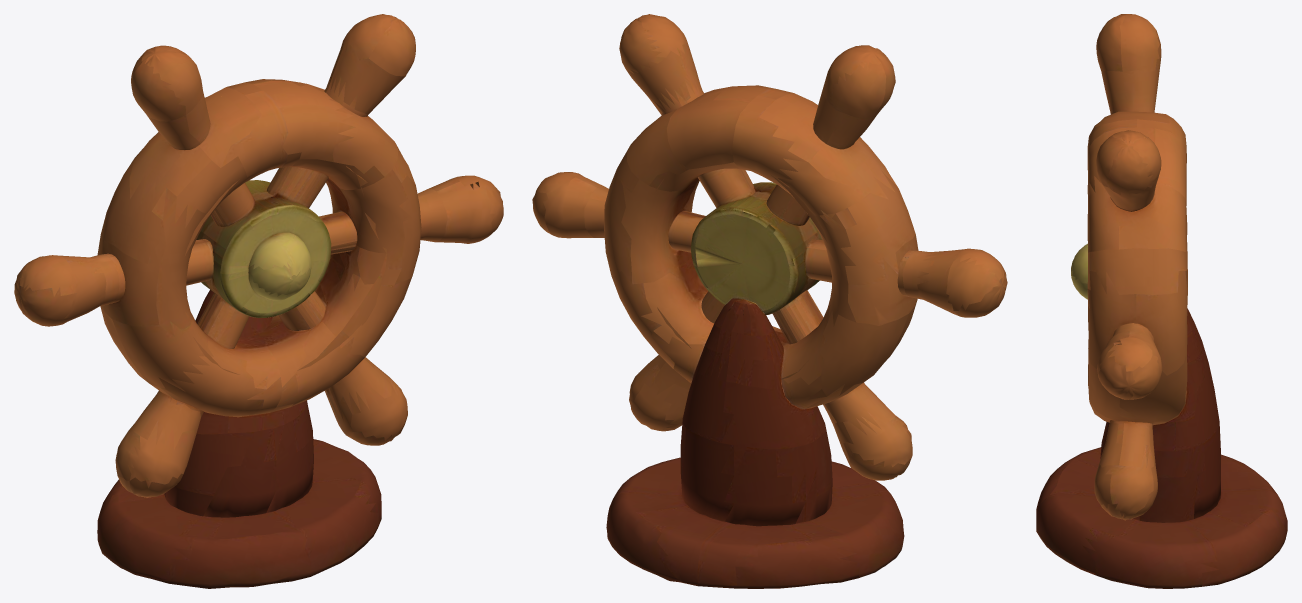
The model's file is la_timon.glb.
3 views of the same model, side by side, from view 1: azimuth 30°, elevation 25°; view 2: azimuth 150°, elevation 25°; view 3: azimuth 270°, elevation 25° (orthographic). The views are drawn at different scales.
Size of the model in its own units: 0.9785 by 1 by 0.4834.
Materials: 1 (1 with a texture image).
